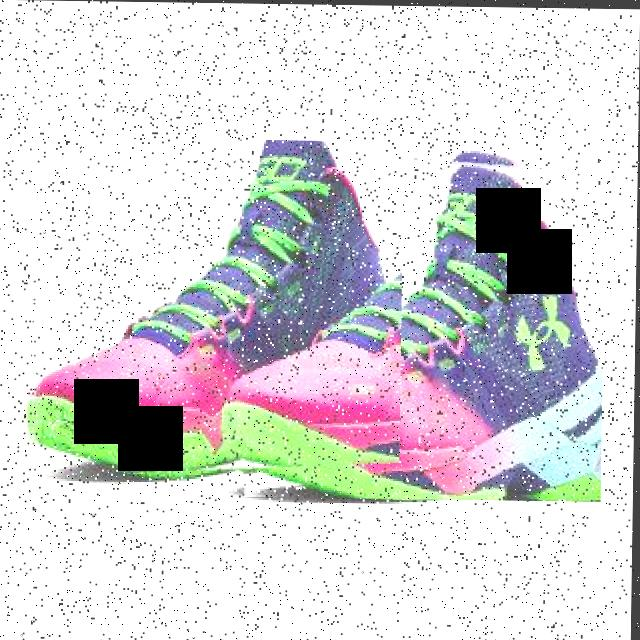shoe: (222, 144, 606, 500), (28, 136, 404, 481)
